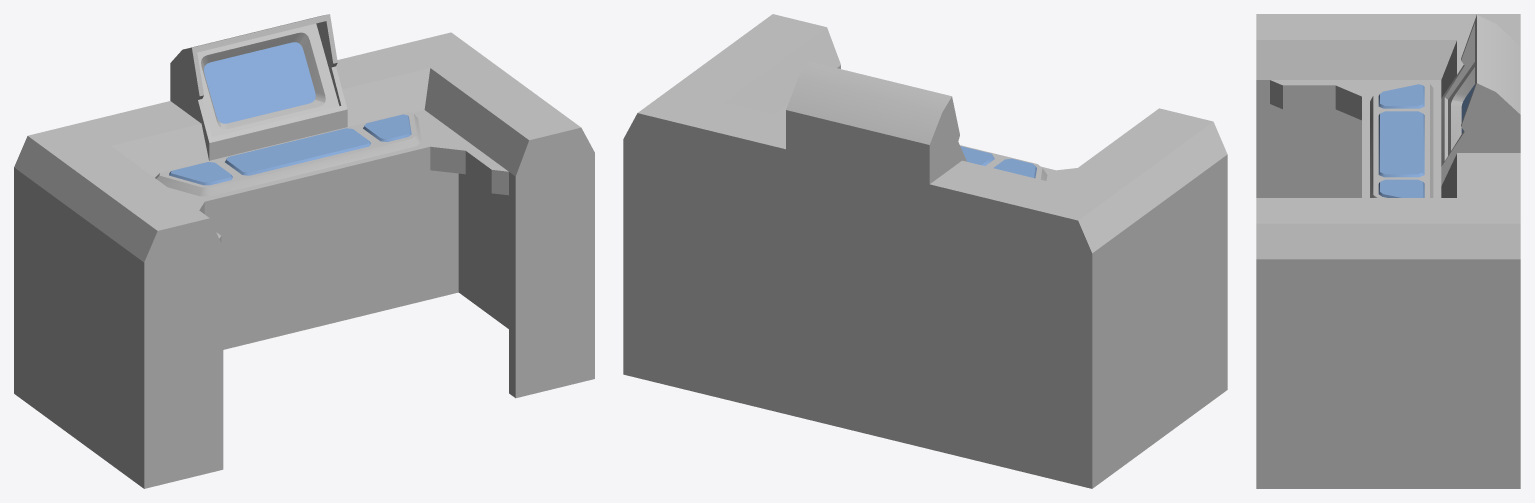
File: Computer_.fbx
The picture shows the model from 3 angles, left to right: view 1: azimuth 30°, elevation 25°; view 2: azimuth 150°, elevation 25°; view 3: azimuth 270°, elevation 25°; orthographic projection. The views are drawn at different scales.
Parts seen in each view (by area): view 1: Computer, meshId1_name; view 2: Computer, meshId1_name; view 3: Computer, meshId1_name.
Boxes of the visible parts, x1,y1,x2,y2 form: Computer: (14, 14, 594, 488); meshId1_name: (169, 42, 411, 185); Computer: (623, 14, 1227, 488); meshId1_name: (960, 146, 1036, 178); Computer: (1256, 14, 1520, 488); meshId1_name: (1378, 84, 1474, 197).
Bounding box in the file's own units: 202 × 139 × 101.
